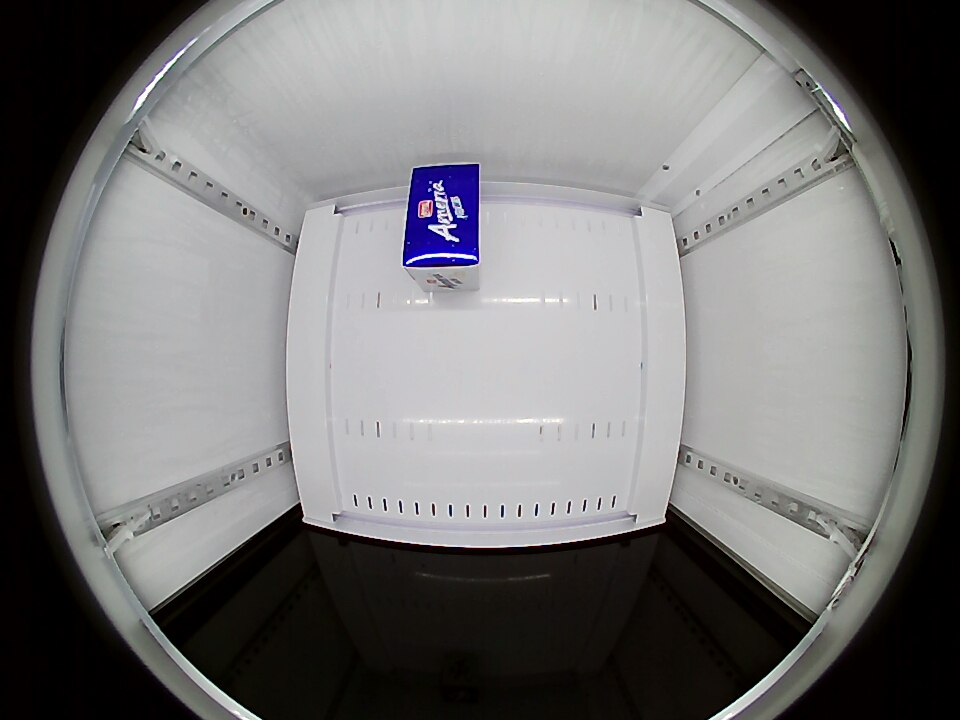meiniye: (403, 163, 481, 276)
